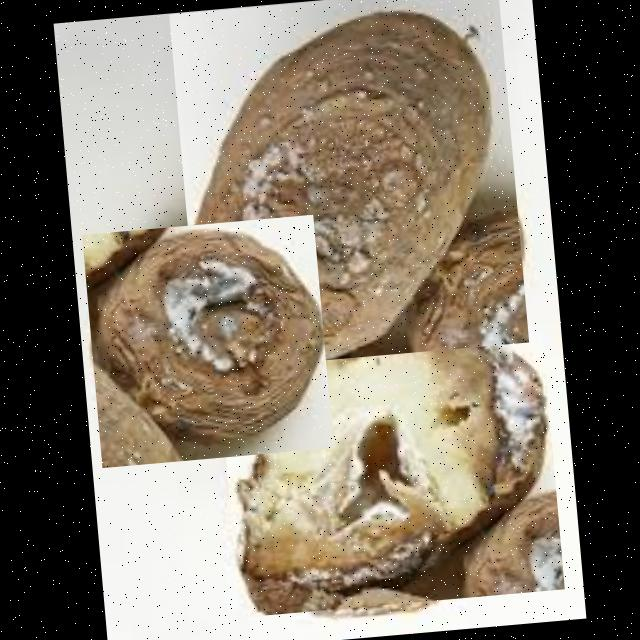Damaged potato: (168, 0, 528, 369), (216, 323, 564, 616), (82, 214, 334, 466)
